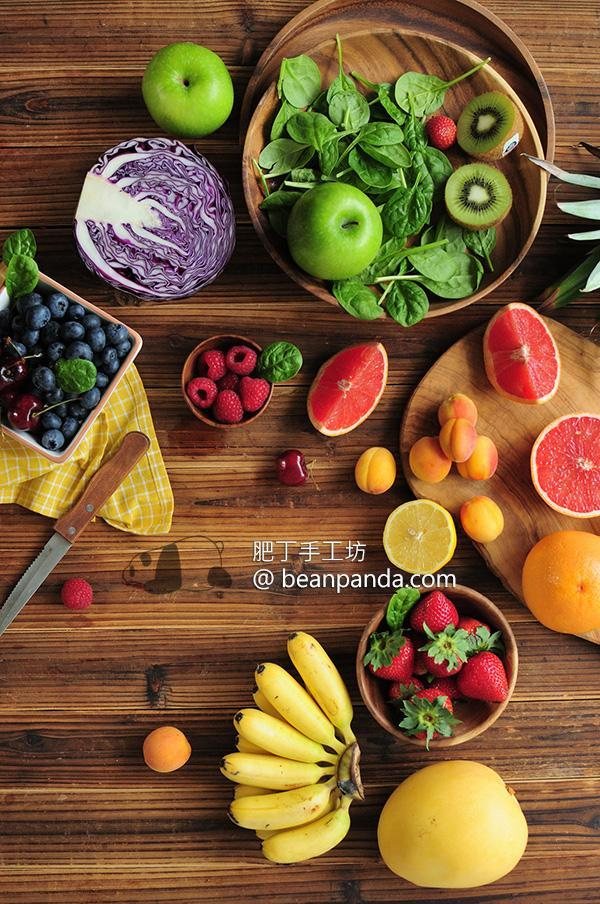apple: (286, 182, 382, 282), (140, 43, 236, 141)
